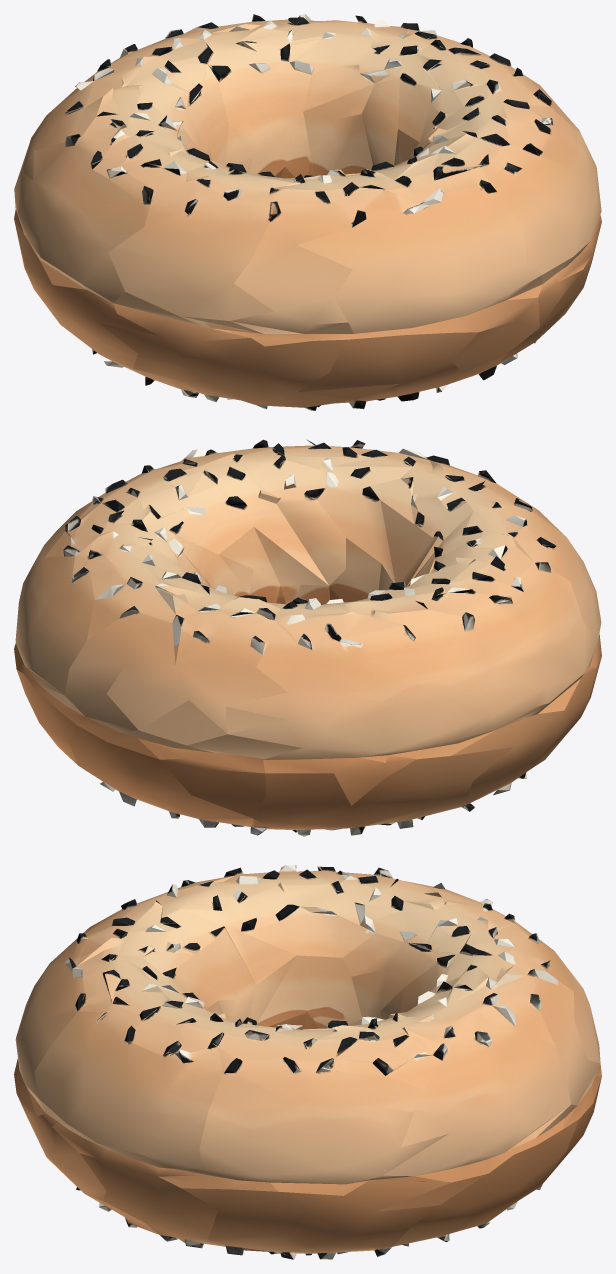
The model's file is ring_sesame.glb.
3 views of the same model, one above another, from view 1: azimuth 30°, elevation 25°; view 2: azimuth 150°, elevation 25°; view 3: azimuth 270°, elevation 25° (orthographic).
Size of the model in its own units: 1.89 by 0.7747 by 1.9.
1 material, 1 textured.
